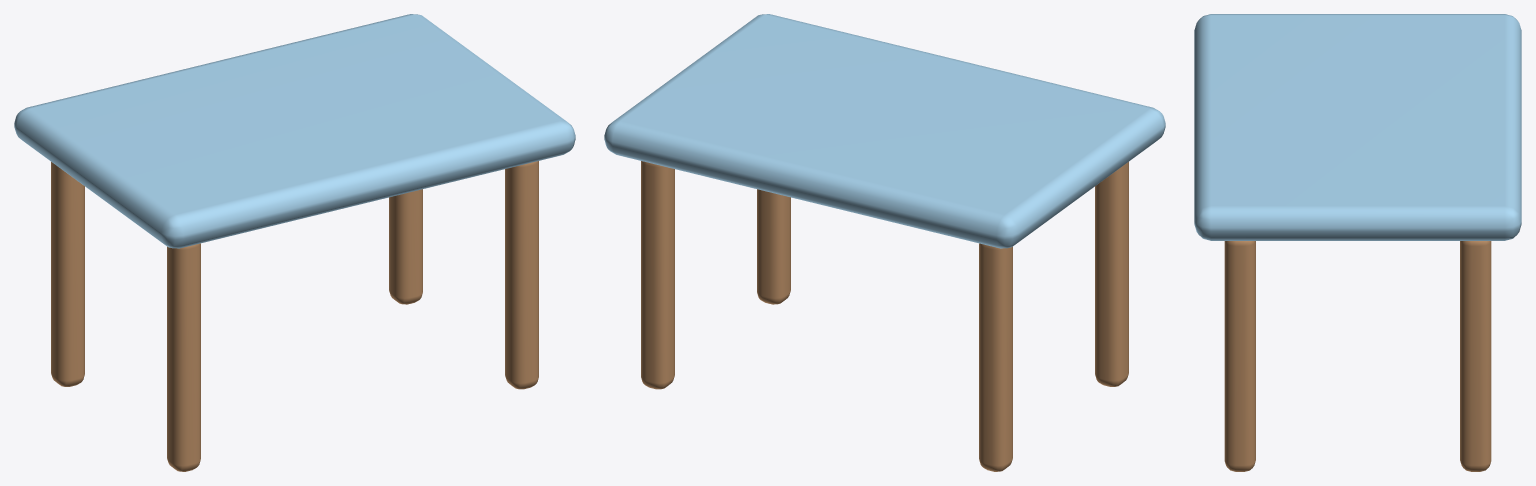
The model's file is livingSmallTable.glb.
3 renders of one model, left to right at view 1: azimuth 30°, elevation 25°; view 2: azimuth 150°, elevation 25°; view 3: azimuth 270°, elevation 25°, orthographic.
Visible parts, largest first — view 1: Rounded tabletop, Leg, Leg.002, Leg.001, Leg.003; view 2: Rounded tabletop, Leg.001, Leg.003, Leg, Leg.002; view 3: Rounded tabletop, Leg.002, Leg.003.
Part boxes in pixels (x1=…): Rounded tabletop: x1=14, y1=14, x2=575, y2=248; Leg: x1=167, y1=243, x2=200, y2=471; Leg.002: x1=505, y1=161, x2=538, y2=389; Leg.001: x1=51, y1=162, x2=84, y2=386; Leg.003: x1=389, y1=189, x2=422, y2=304; Rounded tabletop: x1=604, y1=14, x2=1165, y2=248; Leg.001: x1=979, y1=243, x2=1012, y2=471; Leg.003: x1=641, y1=161, x2=674, y2=389; Leg: x1=1095, y1=162, x2=1128, y2=386; Leg.002: x1=757, y1=189, x2=790, y2=304; Rounded tabletop: x1=1194, y1=14, x2=1521, y2=240; Leg.002: x1=1224, y1=241, x2=1255, y2=471; Leg.003: x1=1460, y1=241, x2=1491, y2=471.
Bounding box in the file's own units: 1.7 × 1.06 × 1.15.
